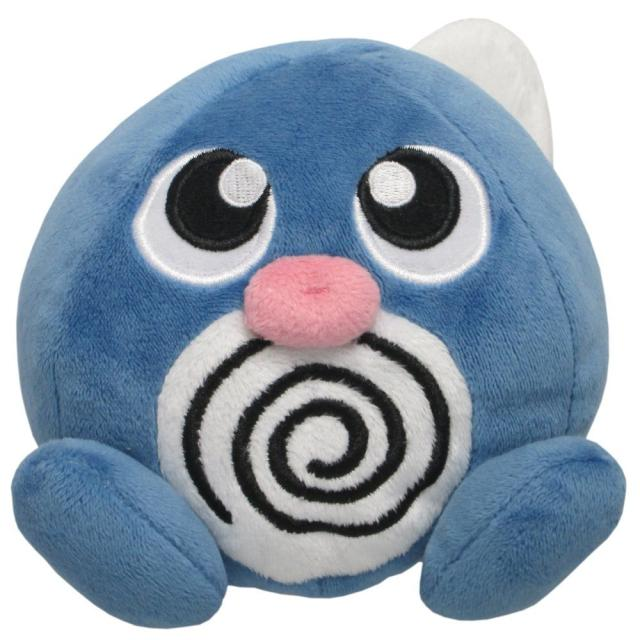Poliwag: (29, 31, 616, 611)
